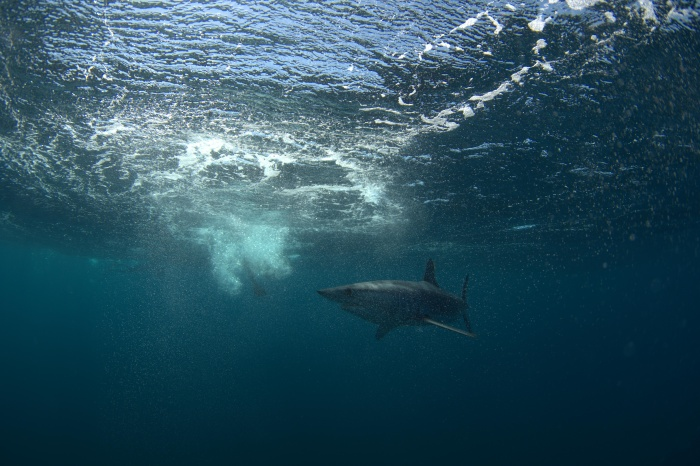Mako: (313, 252, 482, 346)
